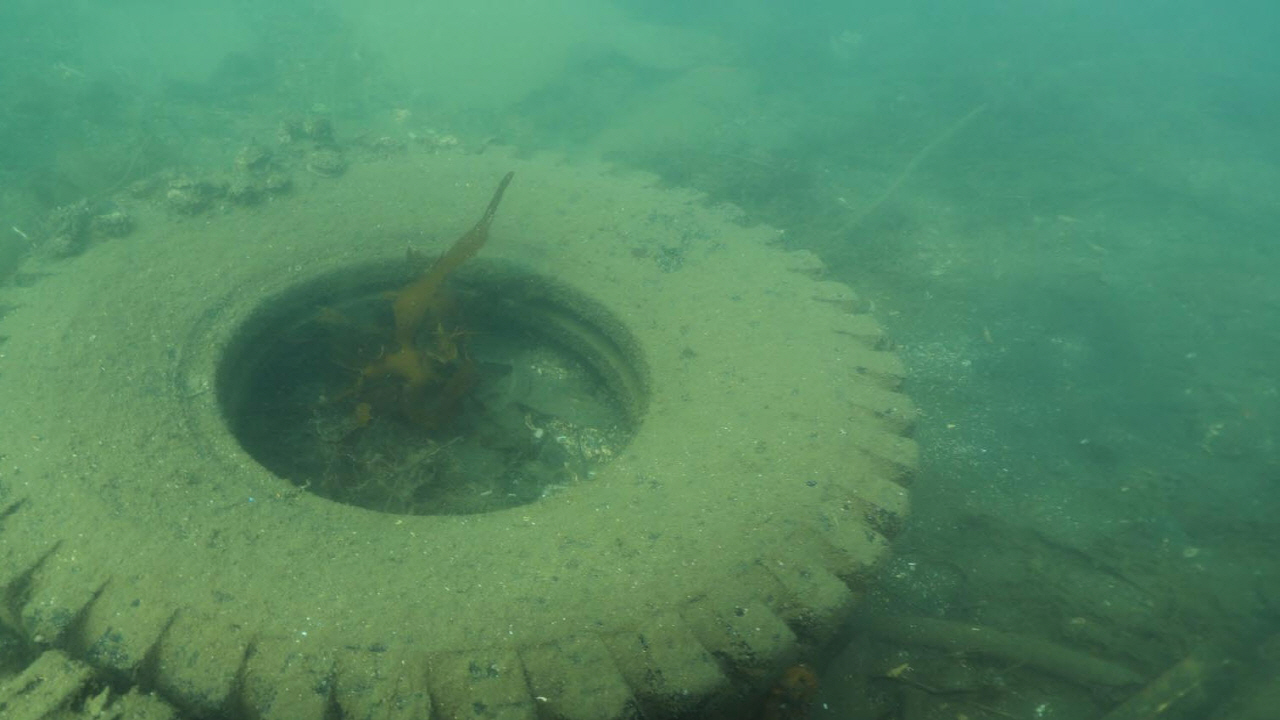tire: (0, 137, 918, 720)
